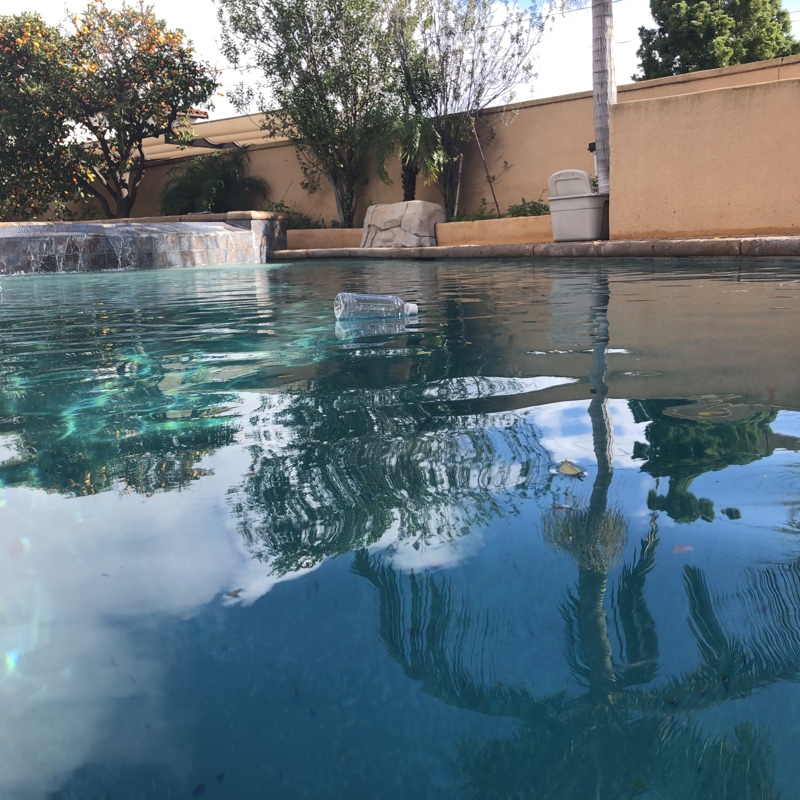Plastic Bottle: (331, 293, 421, 324)
